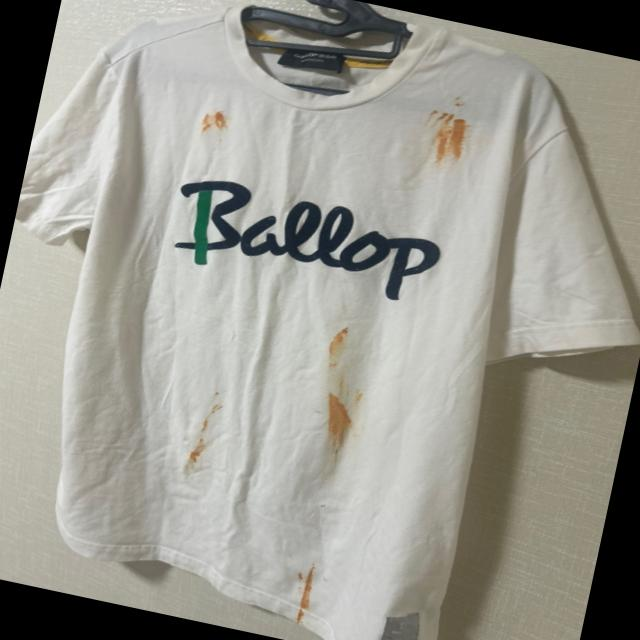stain: (406, 103, 481, 169), (309, 386, 370, 448), (288, 558, 332, 630), (319, 319, 360, 382), (194, 103, 242, 143), (193, 390, 229, 440), (188, 429, 214, 468), (317, 497, 337, 518), (452, 100, 472, 112)
